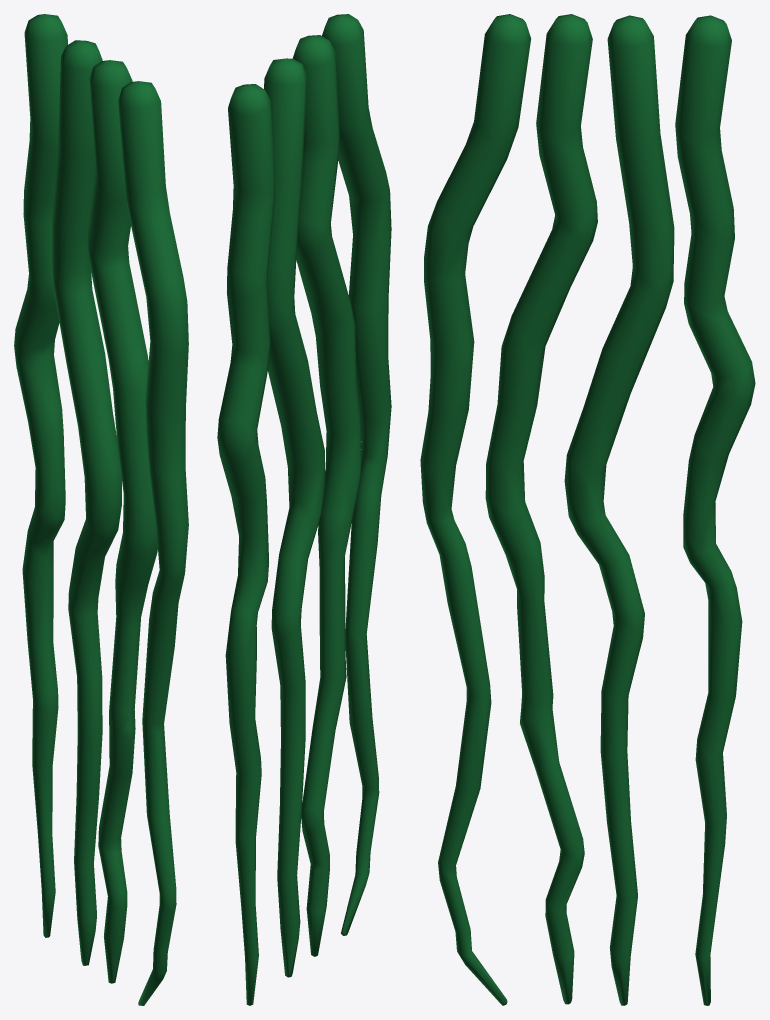
Rendered from Vines.fbx.
3 renders of one model, left to right at view 1: azimuth 30°, elevation 25°; view 2: azimuth 150°, elevation 25°; view 3: azimuth 270°, elevation 25°, orthographic. The views are drawn at different scales.
Visible parts, largest first — view 1: Cube; view 2: Cube; view 3: Cube.
Part boxes in pixels (x1=…): Cube: x1=14, y1=14, x2=188, y2=1005; Cube: x1=217, y1=14, x2=391, y2=1005; Cube: x1=420, y1=14, x2=755, y2=1005.
Size of the model in its own units: 44.32 by 1038 by 318.
